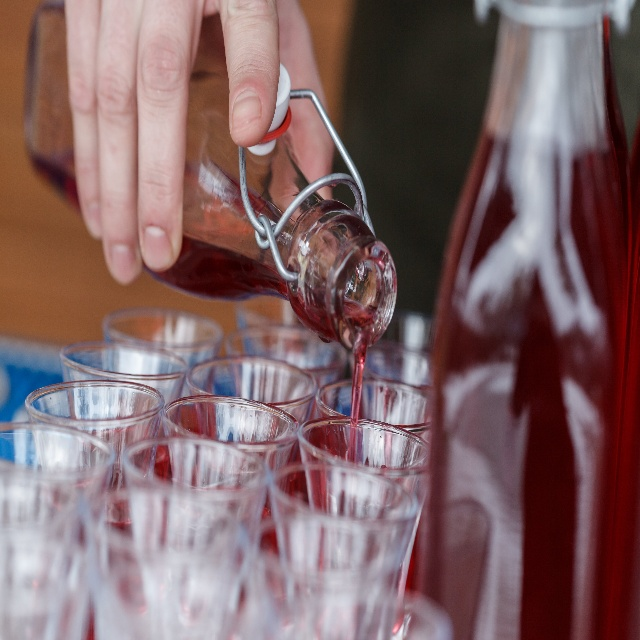Sin_guantes: (68, 0, 273, 296)
